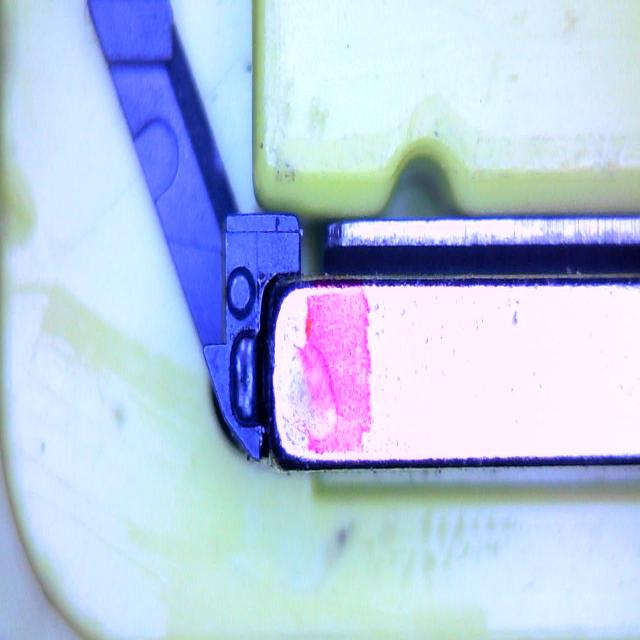over: (228, 327, 262, 427)
